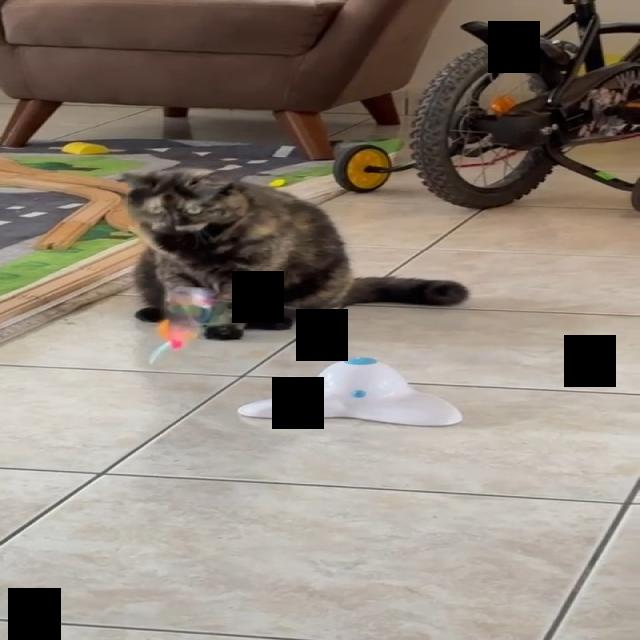authorized: (118, 166, 470, 340)
